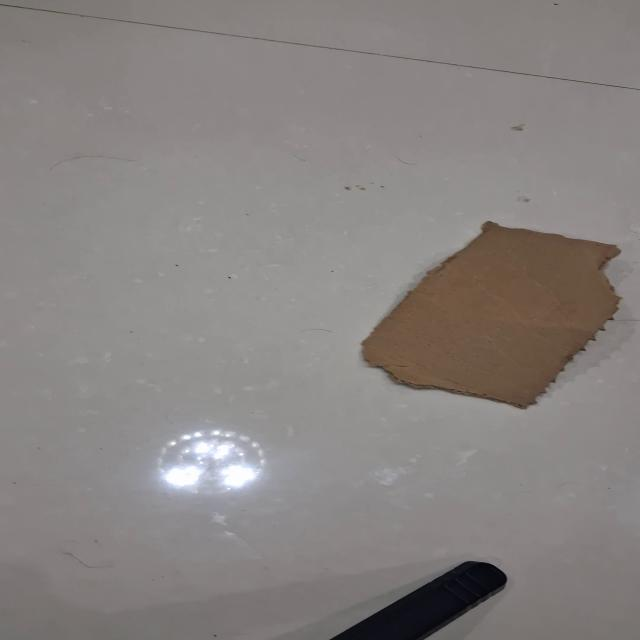paper: (358, 220, 623, 409)
